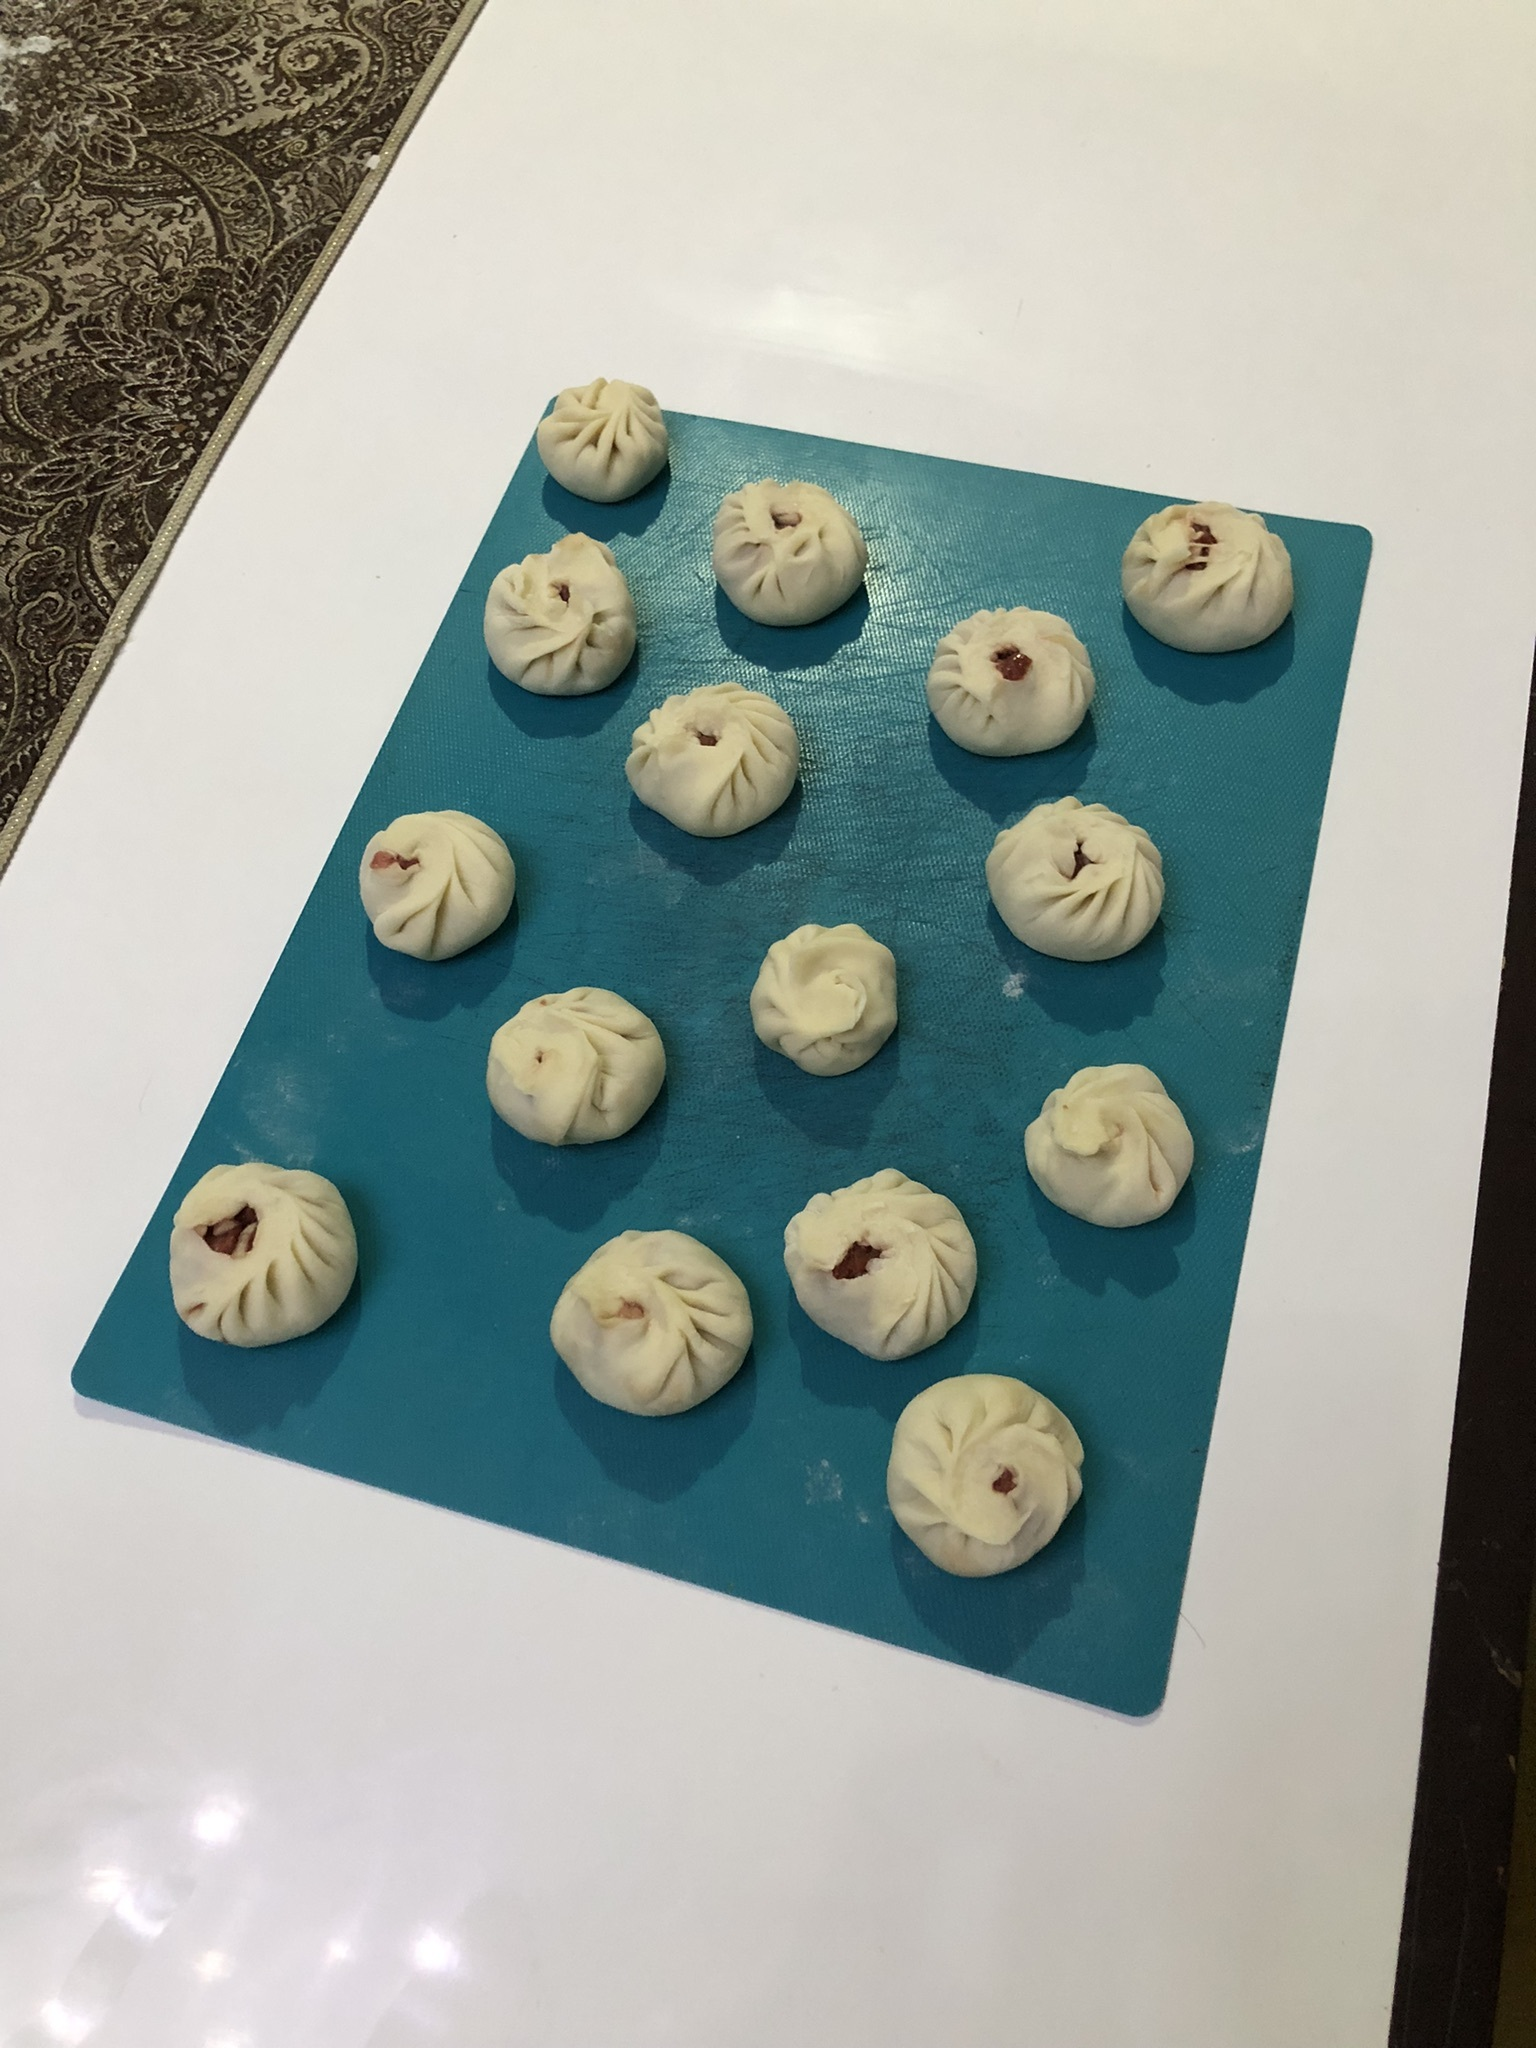buuz: (881, 1369, 1094, 1584), (544, 1222, 762, 1421), (779, 1164, 987, 1366), (165, 1158, 365, 1353), (979, 793, 1176, 971), (1016, 1058, 1205, 1235), (482, 982, 674, 1153), (621, 679, 807, 842), (1115, 498, 1300, 660), (921, 601, 1099, 763), (479, 529, 644, 700), (707, 472, 876, 634), (355, 806, 523, 968), (747, 916, 907, 1084), (532, 374, 674, 510)
